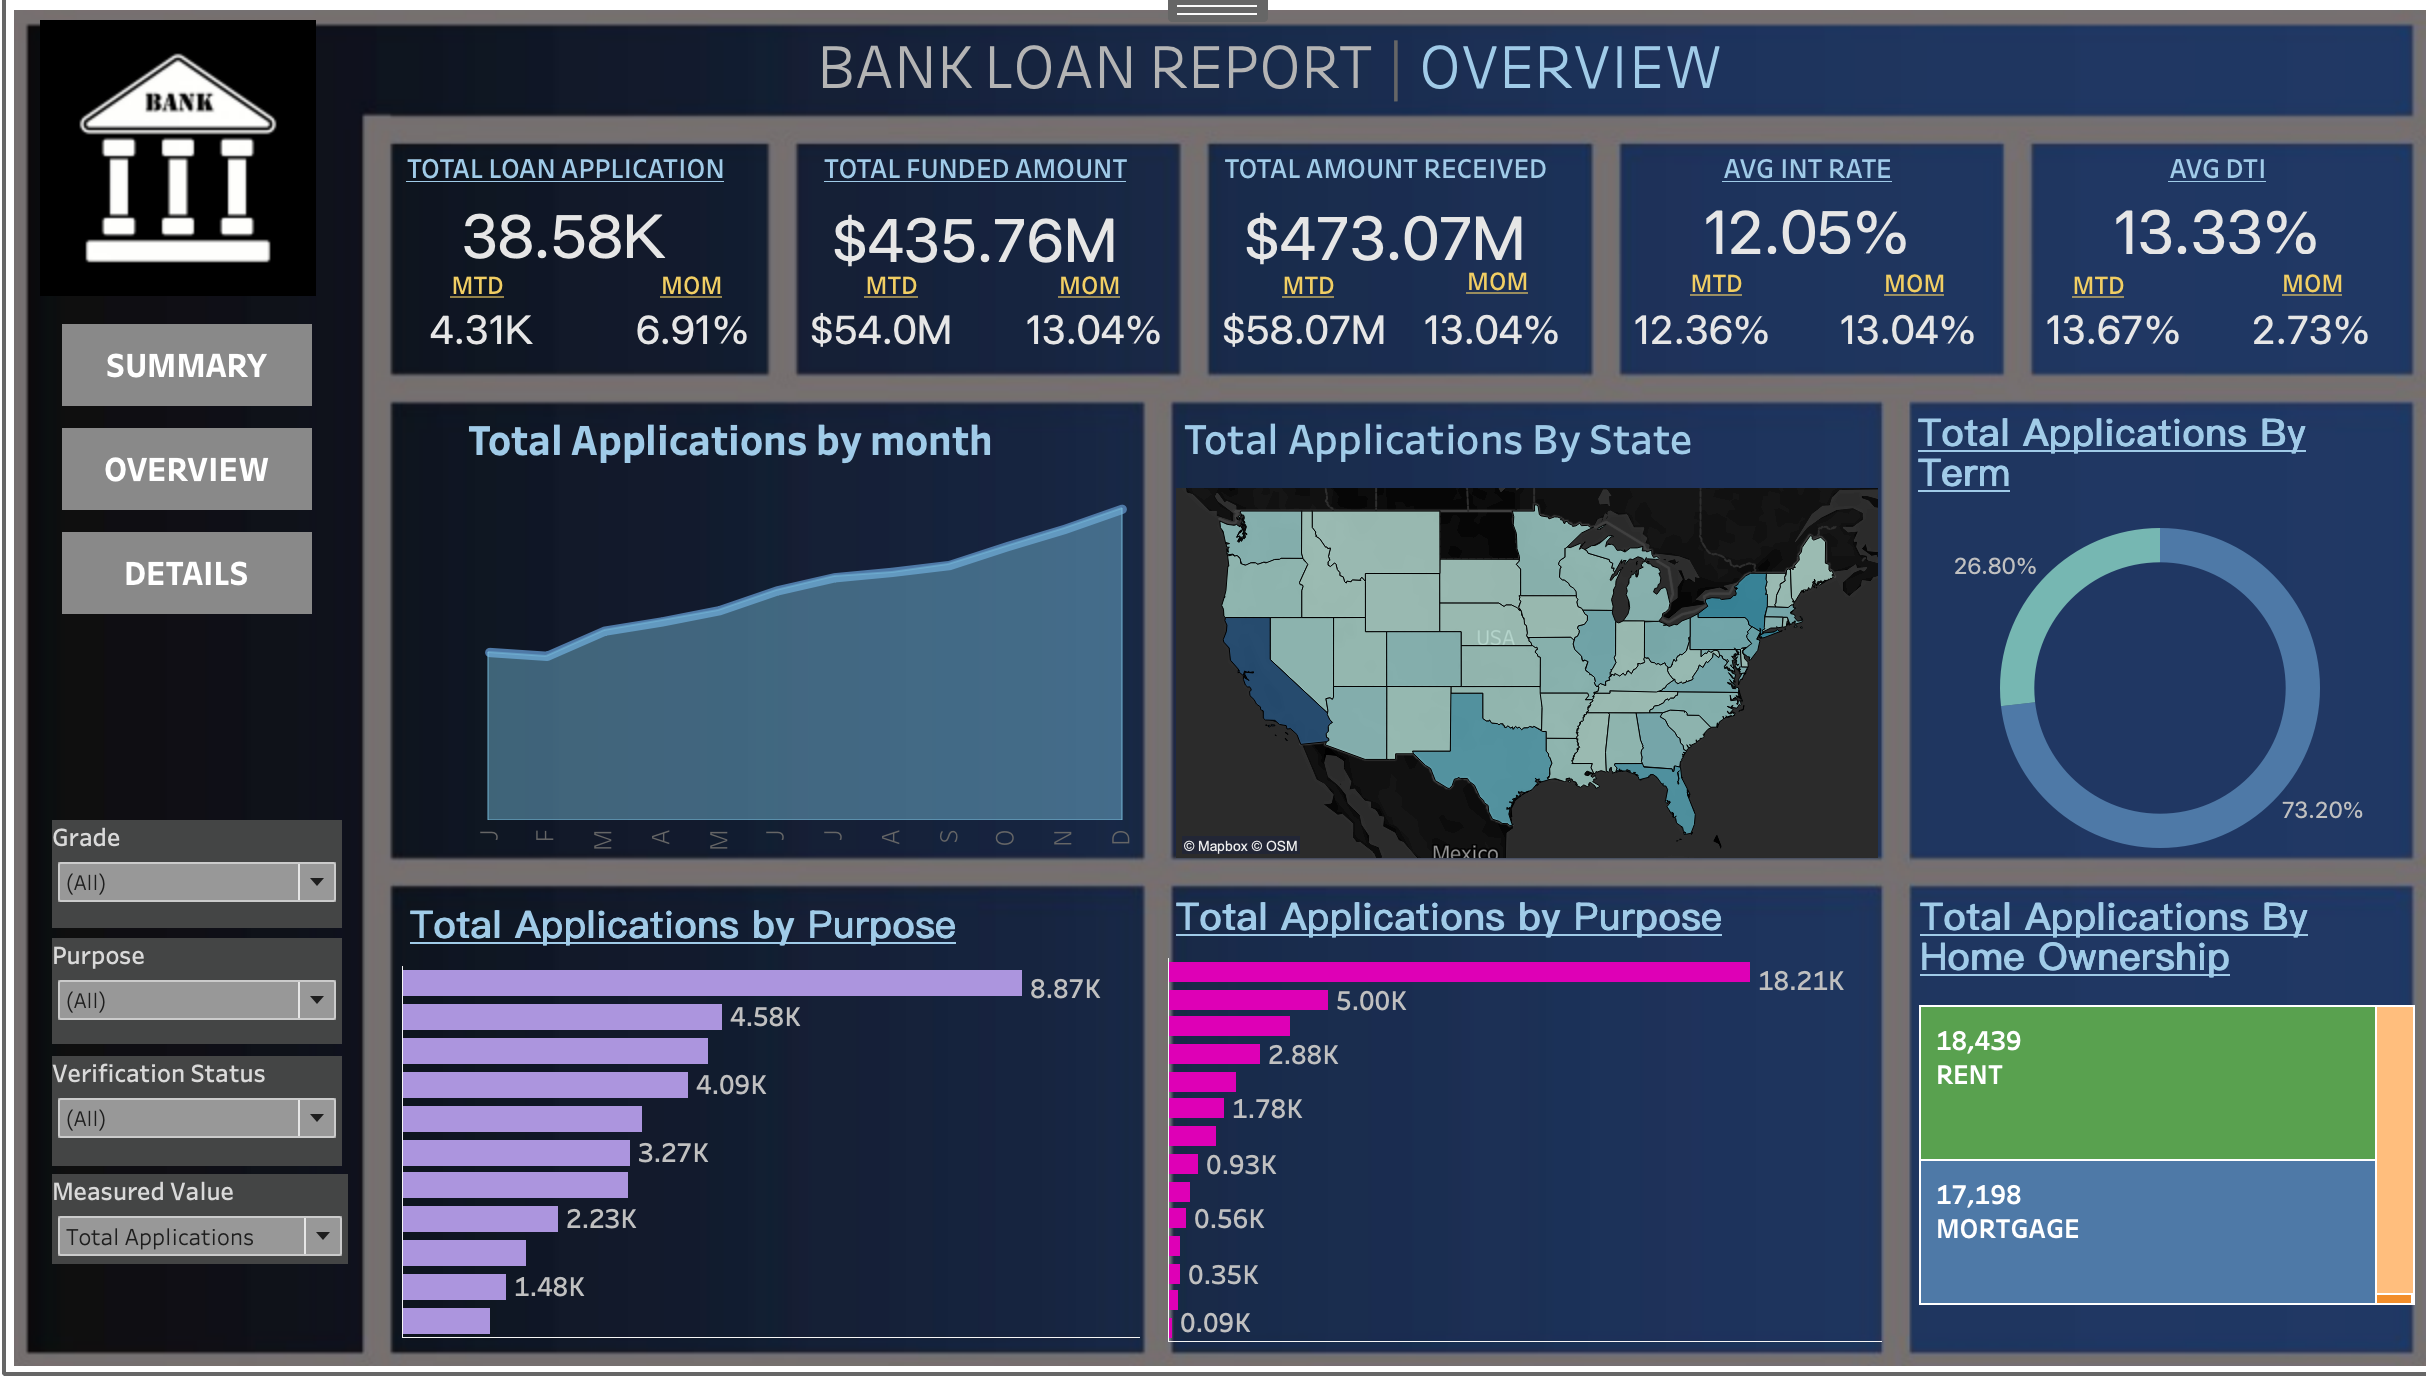

Layout of this report page (visuals, bound fields, positions):
{"tool":"tableau","page":{"name":"overview","canvas":[1000,1000],"units":"permille","ordinal":1},"visuals":[{"type":"image","param":"Image/Tableau Background 2.jpg","box":[6.5,11.4,987,977.3]},{"type":"image","param":"Image/pngtree-vector-bank-icon-png-image_912135.jpg","box":[20.3,25.6,114.6,196]},{"type":"text","box":[334.2,25.6,401.6,62.5]},{"type":"worksheet","title":"TOTAL LOAN APPLICATION","mark":"Automatic","box":[163.4,112.2,141.5,86.7]},{"type":"worksheet","title":"TOTAL FUNDED AMOUNT","mark":"Automatic","box":[328.5,112.2,144.7,90.9]},{"type":"worksheet","title":"TOTAL AMOUNT RECEIVED","mark":"Automatic","box":[495.9,112.2,143.1,89.5]},{"type":"worksheet","title":"AVG INT RATE","mark":"Automatic","box":[661.8,112.2,154.5,79.5]},{"type":"worksheet","title":"AVG DTI","mark":"Automatic","box":[828.5,112.2,154.5,79.5]},{"type":"text","box":[157.7,191.8,81.3,42.6]},{"type":"text","box":[255.3,191.8,60.2,42.6]},{"type":"text","box":[326,191.8,81.3,42.6]},{"type":"text","box":[417.1,191.8,60.2,42.6]},{"type":"text","box":[495.9,191.8,80.5,42.6]},{"type":"text","box":[582.9,191.8,60.2,36.9]},{"type":"text","box":[661.8,191.8,80.5,39.8]},{"type":"text","box":[752,191.8,61,41.2]},{"type":"text","box":[826.8,191.8,61,42.6]},{"type":"text","box":[913.8,191.8,61,41.2]},{"type":"worksheet","title":"MTD LOAN APPLICATION","mark":"Automatic","box":[165,220.2,69.9,51.1]},{"type":"worksheet","title":"MOM LOAN APPLICATION","mark":"Automatic","box":[251.2,220.2,69.9,51.1]},{"type":"worksheet","title":"MTD FUNDED AMOUNT","mark":"Automatic","box":[328.5,220.2,69.1,51.1]},{"type":"worksheet","title":"MOM TOTAL FUNDED AMOUNT","mark":"Automatic","box":[414.6,220.2,69.9,51.1]},{"type":"worksheet","title":"MTD AMOUNT RECEIVED","mark":"Automatic","box":[495.9,220.2,78,51.1]},{"type":"worksheet","title":"MOM TOTAL FUNDED AMOUNT (2)","mark":"Automatic","box":[576.4,220.2,69.9,51.1]},{"type":"worksheet","title":"MTD AVG INT RATE","mark":"Automatic","box":[662.6,220.2,69.1,51.1]},{"type":"worksheet","title":"MOM AVG INT RATE","mark":"Automatic","box":[745.5,220.2,69.1,51.1]},{"type":"worksheet","title":"MTD AVG DTI","mark":"Automatic","box":[829.3,220.2,69.1,51.1]},{"type":"worksheet","title":"MOM AVG DTI","mark":"Automatic","box":[908.9,220.2,69.9,51.1]},{"type":"dashboard-object","box":[29.3,241.5,101.6,58.2]},{"type":"worksheet","title":"state","mark":"Multipolygon","box":[482.1,296.9,285.4,323.9]},{"type":"worksheet","title":"month","mark":"Automatic","rows":["Calculation_1716364072994127872","Calculation_1716364072994127872"],"cols":["issue_date"],"box":[191.1,298.3,280.5,323]},{"type":"worksheet","title":"term","mark":"Pie","rows":["Calculation_1922403756049059845","Calculation_1922403756049059845"],"box":[780.5,298.3,203.2,325.3]},{"type":"dashboard-object","box":[29.3,315.3,101.6,58.2]},{"type":"dashboard-object","box":[29.3,389.2,101.6,58.2]},{"type":"filter","title":"AVG DTI","param":"[federated.1dhbyjr071jwb617m44rz1x3nq2c].[none:grade:nk]","box":[25.2,593.8,117.9,76.7]},{"type":"worksheet","title":"purpose","mark":"Bar","rows":["purpose"],"cols":["Calculation_1716364072994127872"],"box":[478.9,642.1,290.2,322.4]},{"type":"worksheet","title":"home ownership","mark":"Automatic","box":[781.3,642.1,207.3,342.3]},{"type":"worksheet","title":"employee length","mark":"Bar","rows":["emp_length"],"cols":["Calculation_1716364072994127872"],"box":[167.5,647.7,300,313.9]},{"type":"filter","title":"AVG DTI","param":"[federated.1dhbyjr071jwb617m44rz1x3nq2c].[none:purpose:nk]","box":[25.2,677.6,117.9,75.3]},{"type":"filter","title":"AVG DTI","param":"[federated.1dhbyjr071jwb617m44rz1x3nq2c].[none:verification_status:nk]","box":[25.2,761.4,117.9,78.1]},{"type":"parameter","param":"[Parameters].[Parameter 1]","box":[25.2,845.2,120.3,63.9]}]}

Visuals, with their boxes on the dashboard's canvas, which has no fixed pixel size, in thousandths of its width and height (x1, y1, x2, y2). These are canvas units, not pixel positions in the 2426x1382 screenshot, which may show the page scaled, cropped or inside an application window:
image: <bbox>6, 11, 994, 989</bbox>
image: <bbox>20, 26, 135, 222</bbox>
text: <bbox>334, 26, 736, 88</bbox>
"TOTAL LOAN APPLICATION" worksheet: <bbox>163, 112, 305, 199</bbox>
"TOTAL FUNDED AMOUNT" worksheet: <bbox>328, 112, 473, 203</bbox>
"TOTAL AMOUNT RECEIVED" worksheet: <bbox>496, 112, 639, 202</bbox>
"AVG INT RATE" worksheet: <bbox>662, 112, 816, 192</bbox>
"AVG DTI" worksheet: <bbox>828, 112, 983, 192</bbox>
text: <bbox>158, 192, 239, 234</bbox>
text: <bbox>255, 192, 316, 234</bbox>
text: <bbox>326, 192, 407, 234</bbox>
text: <bbox>417, 192, 477, 234</bbox>
text: <bbox>496, 192, 576, 234</bbox>
text: <bbox>583, 192, 643, 229</bbox>
text: <bbox>662, 192, 742, 232</bbox>
text: <bbox>752, 192, 813, 233</bbox>
text: <bbox>827, 192, 888, 234</bbox>
text: <bbox>914, 192, 975, 233</bbox>
"MTD LOAN APPLICATION" worksheet: <bbox>165, 220, 235, 271</bbox>
"MOM LOAN APPLICATION" worksheet: <bbox>251, 220, 321, 271</bbox>
"MTD FUNDED AMOUNT" worksheet: <bbox>328, 220, 398, 271</bbox>
"MOM TOTAL FUNDED AMOUNT" worksheet: <bbox>415, 220, 484, 271</bbox>
"MTD AMOUNT RECEIVED" worksheet: <bbox>496, 220, 574, 271</bbox>
"MOM TOTAL FUNDED AMOUNT (2)" worksheet: <bbox>576, 220, 646, 271</bbox>
"MTD AVG INT RATE" worksheet: <bbox>663, 220, 732, 271</bbox>
"MOM AVG INT RATE" worksheet: <bbox>746, 220, 815, 271</bbox>
"MTD AVG DTI" worksheet: <bbox>829, 220, 898, 271</bbox>
"MOM AVG DTI" worksheet: <bbox>909, 220, 979, 271</bbox>
dashboard-object: <bbox>29, 242, 131, 300</bbox>
"state" worksheet (Multipolygon marks): <bbox>482, 297, 768, 621</bbox>
"month" worksheet: <bbox>191, 298, 472, 621</bbox>
"term" worksheet (Pie marks): <bbox>780, 298, 984, 624</bbox>
dashboard-object: <bbox>29, 315, 131, 374</bbox>
dashboard-object: <bbox>29, 389, 131, 447</bbox>
"AVG DTI" filter: <bbox>25, 594, 143, 670</bbox>
"purpose" worksheet (Bar marks): <bbox>479, 642, 769, 964</bbox>
"home ownership" worksheet: <bbox>781, 642, 989, 984</bbox>
"employee length" worksheet (Bar marks): <bbox>168, 648, 468, 962</bbox>
"AVG DTI" filter: <bbox>25, 678, 143, 753</bbox>
"AVG DTI" filter: <bbox>25, 761, 143, 840</bbox>
parameter: <bbox>25, 845, 146, 909</bbox>
